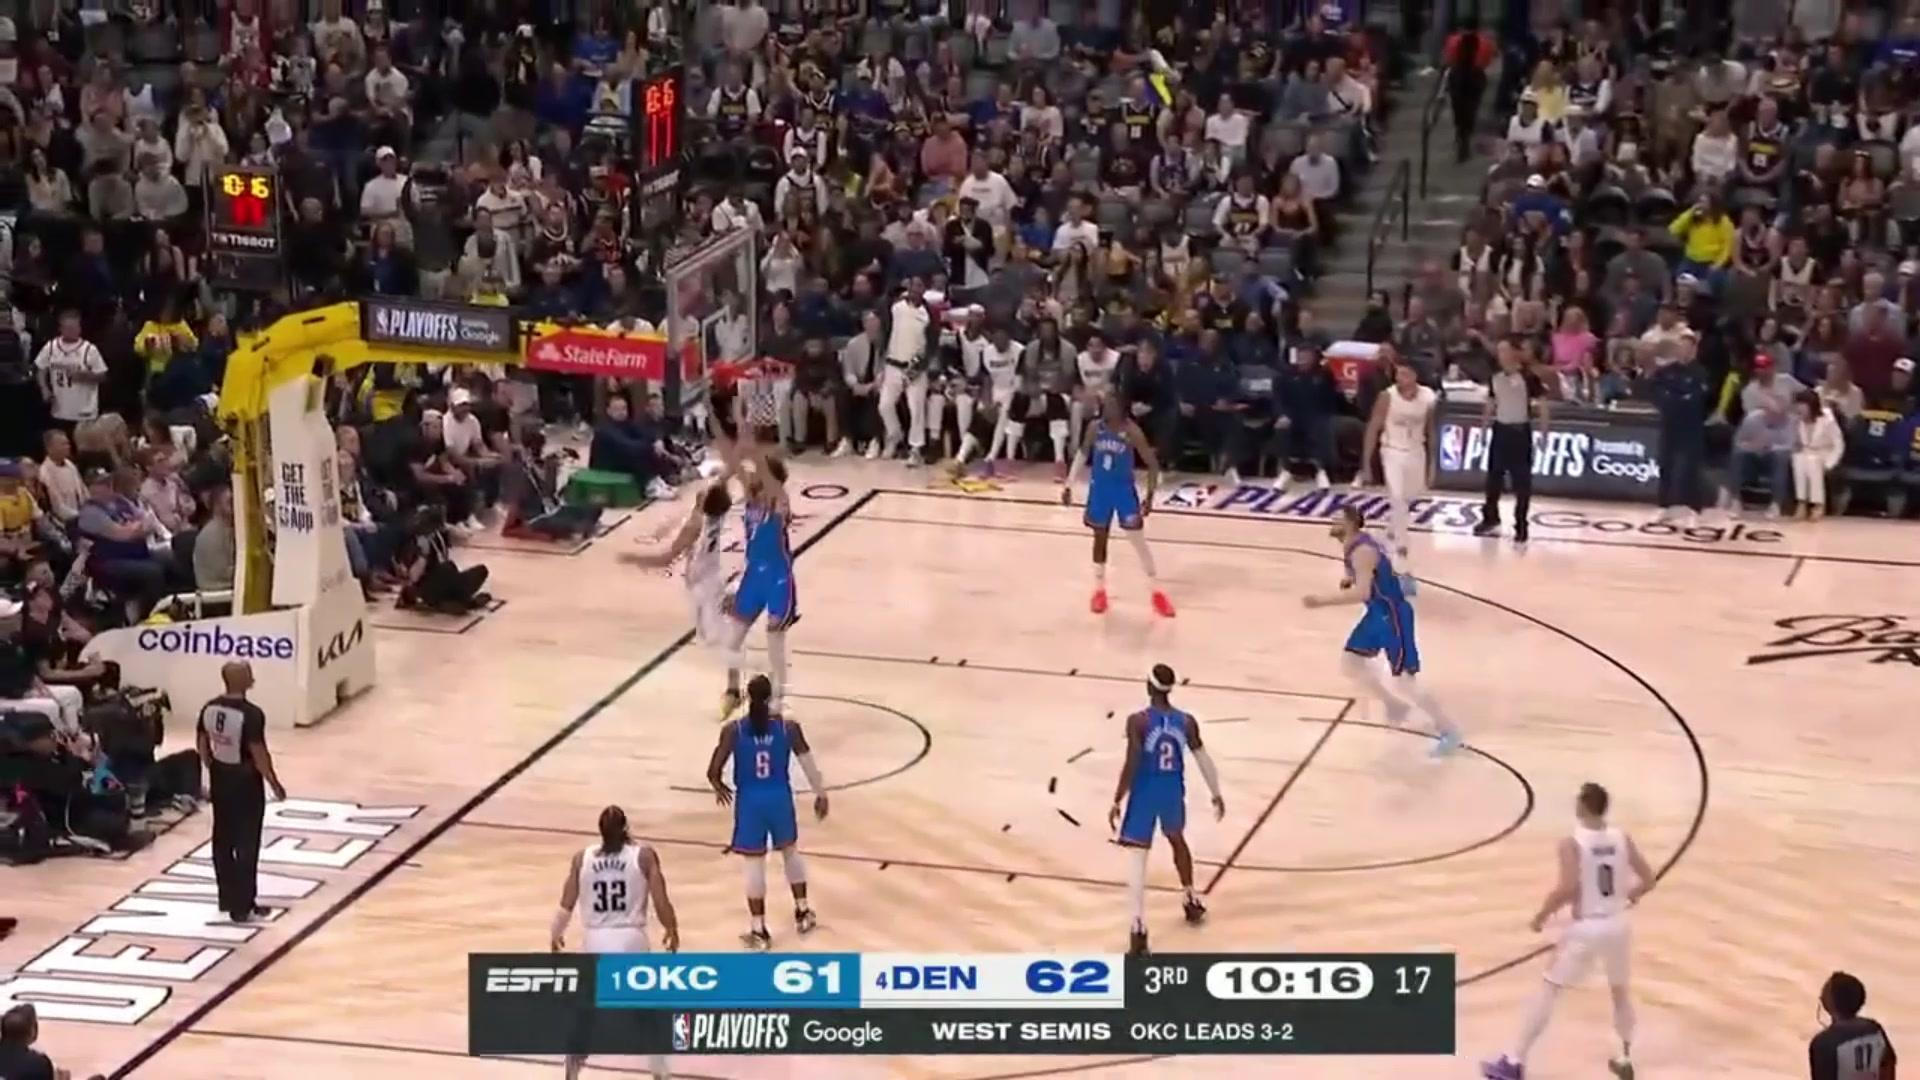foul: (657, 407, 818, 702)
